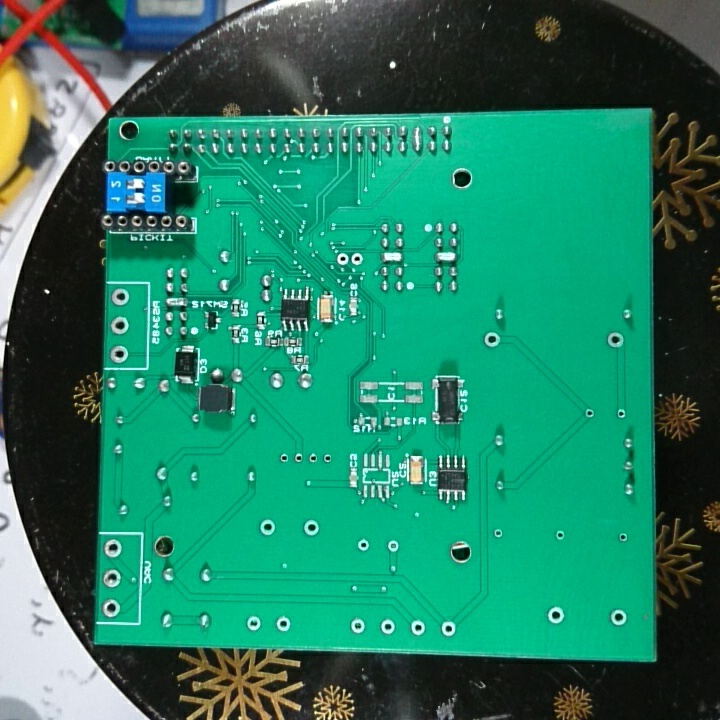F: (544, 602, 569, 628), (99, 596, 124, 620), (108, 286, 134, 309), (101, 535, 124, 559), (101, 568, 126, 590), (607, 606, 630, 629), (109, 343, 132, 366), (605, 329, 627, 351), (438, 618, 459, 640), (481, 329, 504, 349), (256, 515, 276, 538), (273, 612, 293, 635), (407, 615, 427, 637), (110, 313, 132, 333), (348, 614, 367, 637), (244, 612, 263, 635), (301, 518, 321, 538), (379, 615, 396, 636), (348, 248, 364, 270), (385, 537, 401, 555), (334, 249, 349, 268), (356, 536, 371, 554), (616, 529, 630, 547), (552, 526, 567, 542), (584, 405, 598, 421), (293, 449, 306, 466), (307, 449, 319, 467), (321, 449, 333, 466), (491, 526, 505, 539), (278, 450, 290, 465), (615, 406, 627, 420)
P: (162, 295, 193, 310), (409, 126, 424, 155), (433, 249, 460, 264), (379, 249, 404, 265)
